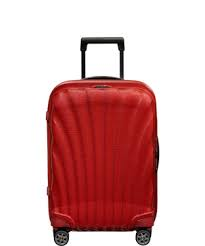suitcase: (44, 35, 161, 246)
